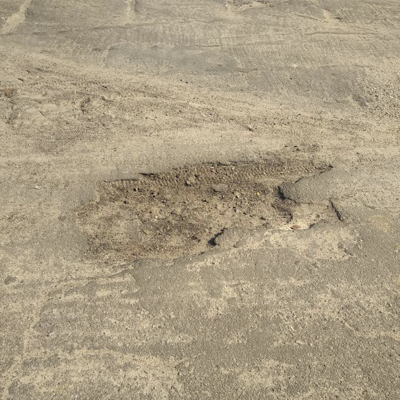pothole: (72, 153, 344, 268)
